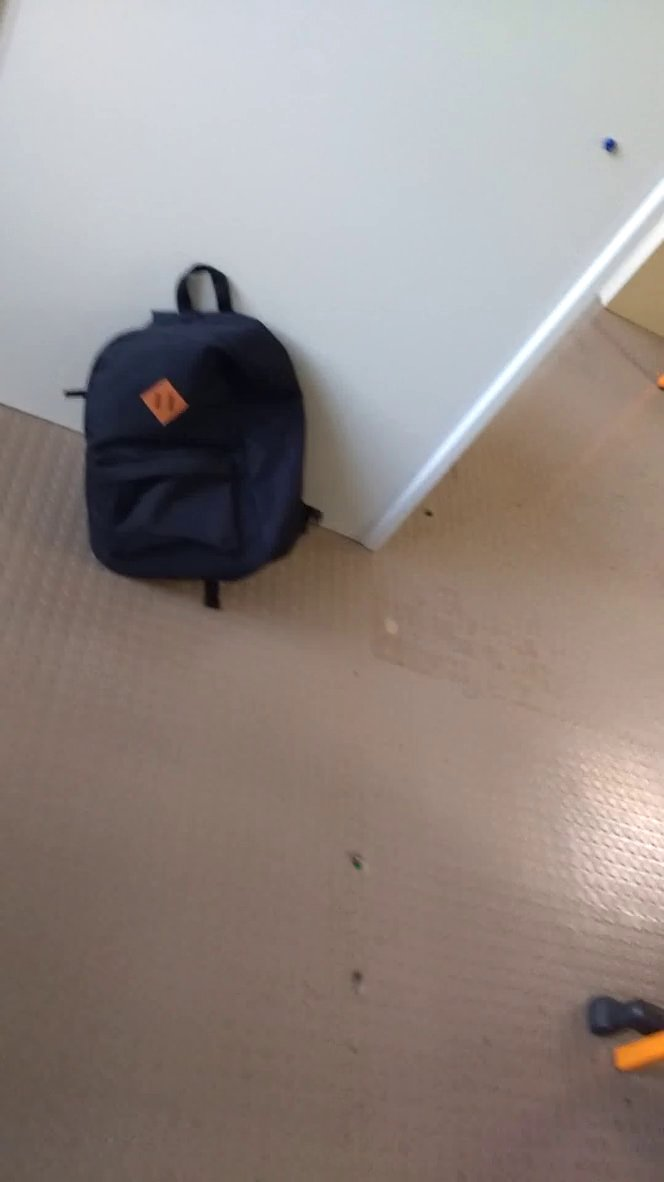bag: (42, 251, 342, 628)
